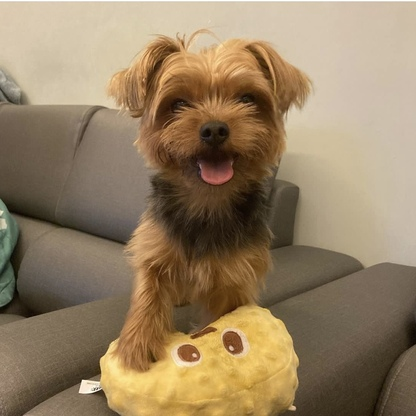yorkshire: (111, 29, 316, 373)
